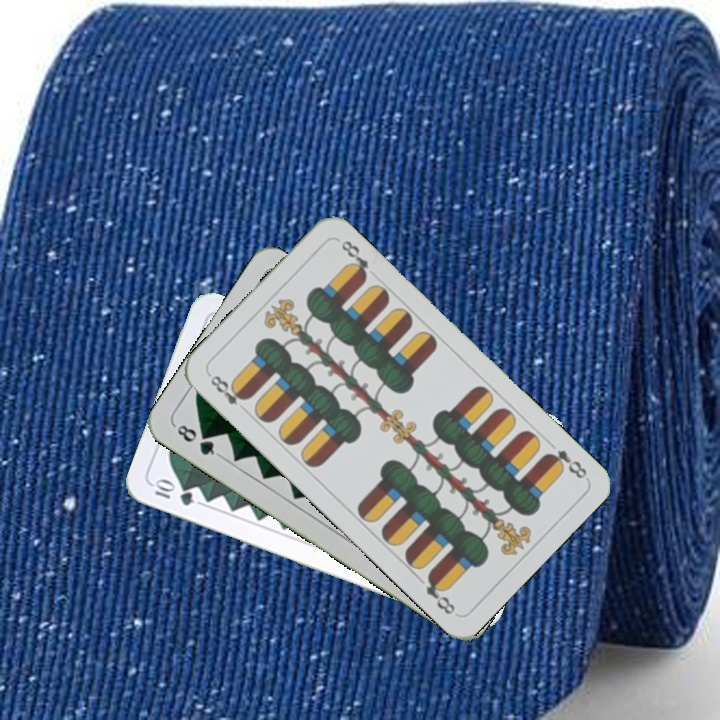E8: (540, 445, 590, 482), (204, 370, 251, 408)
G10: (149, 476, 197, 509)
G8: (170, 420, 222, 459)
